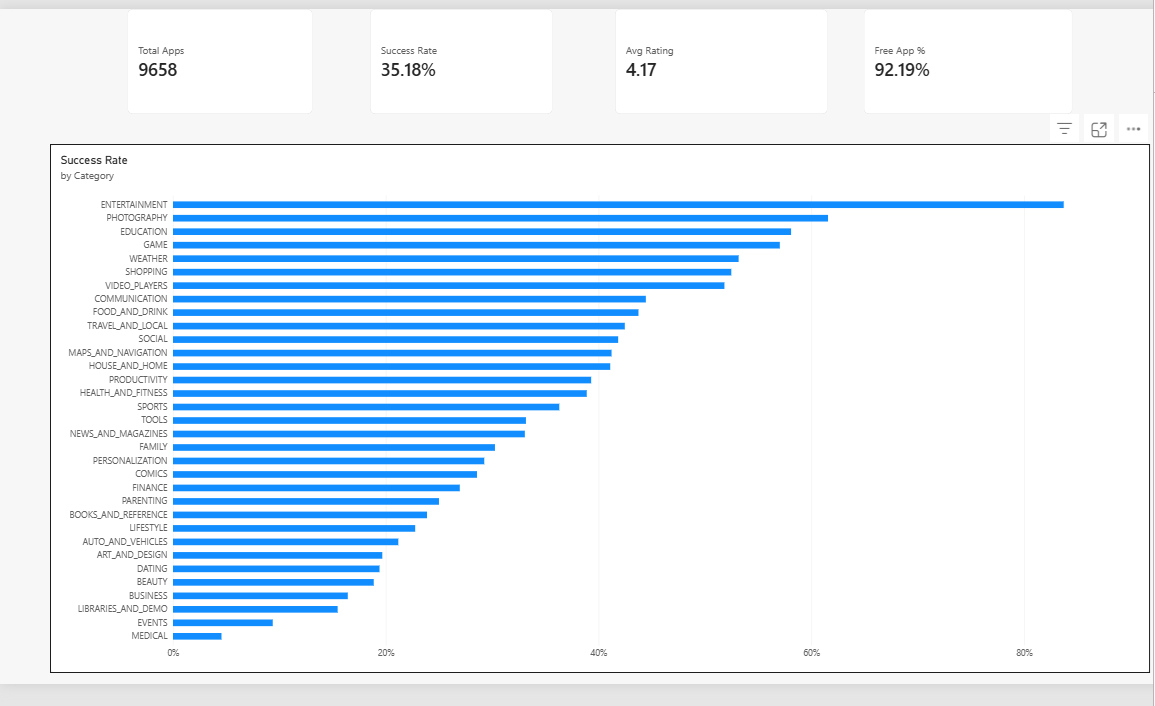

The dashboard page shown, as its layout file describes it:
{"tool":"powerbi","page":{"name":"Executive Overview","canvas":[1920,1080],"ordinal":0},"visuals":[{"type":"cardVisual","fields":{"Data":["APPS.Total Apps"]},"box":[204,0,296,168],"z":0},{"type":"cardVisual","fields":{"Data":["APPS.Success Rate"]},"box":[592,0,292,168],"z":1},{"type":"cardVisual","fields":{"Data":["APPS.Avg Rating"]},"box":[984,0,340,168],"z":2},{"type":"cardVisual","fields":{"Data":["APPS.Free App %"]},"box":[1382,0,334,168],"z":3},{"type":"clusteredBarChart","fields":{"Category":["APPS.Category"],"Y":["APPS.Success Rate"]},"box":[80,216,1760,846],"z":4}]}

Visuals, with their boxes on the page's 1920x1080 design canvas (x1, y1, x2, y2). These are canvas units, not pixel positions in the 1155x706 screenshot, which may show the page scaled, cropped or inside an application window:
cardVisual - APPS.Total Apps: (x1=204, y1=0, x2=500, y2=168)
cardVisual - APPS.Success Rate: (x1=592, y1=0, x2=884, y2=168)
cardVisual - APPS.Avg Rating: (x1=984, y1=0, x2=1324, y2=168)
cardVisual - APPS.Free App %: (x1=1382, y1=0, x2=1716, y2=168)
clusteredBarChart - APPS.Category x APPS.Success Rate: (x1=80, y1=216, x2=1840, y2=1062)
